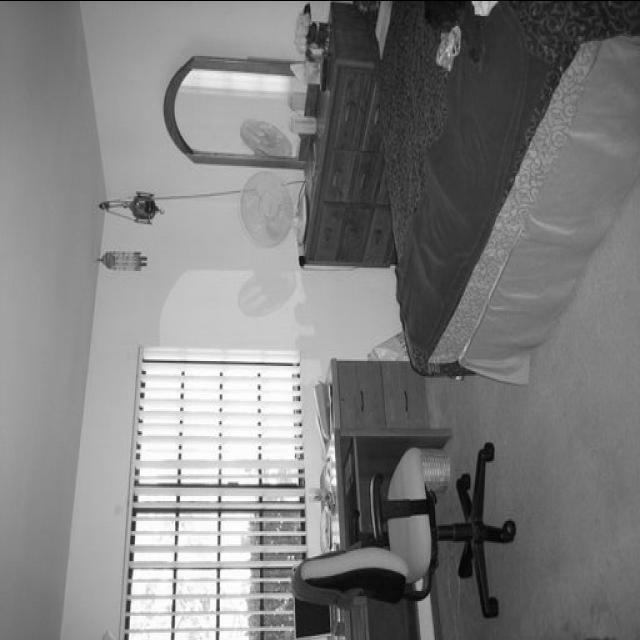table: (286, 438, 530, 620), (300, 422, 456, 639)
